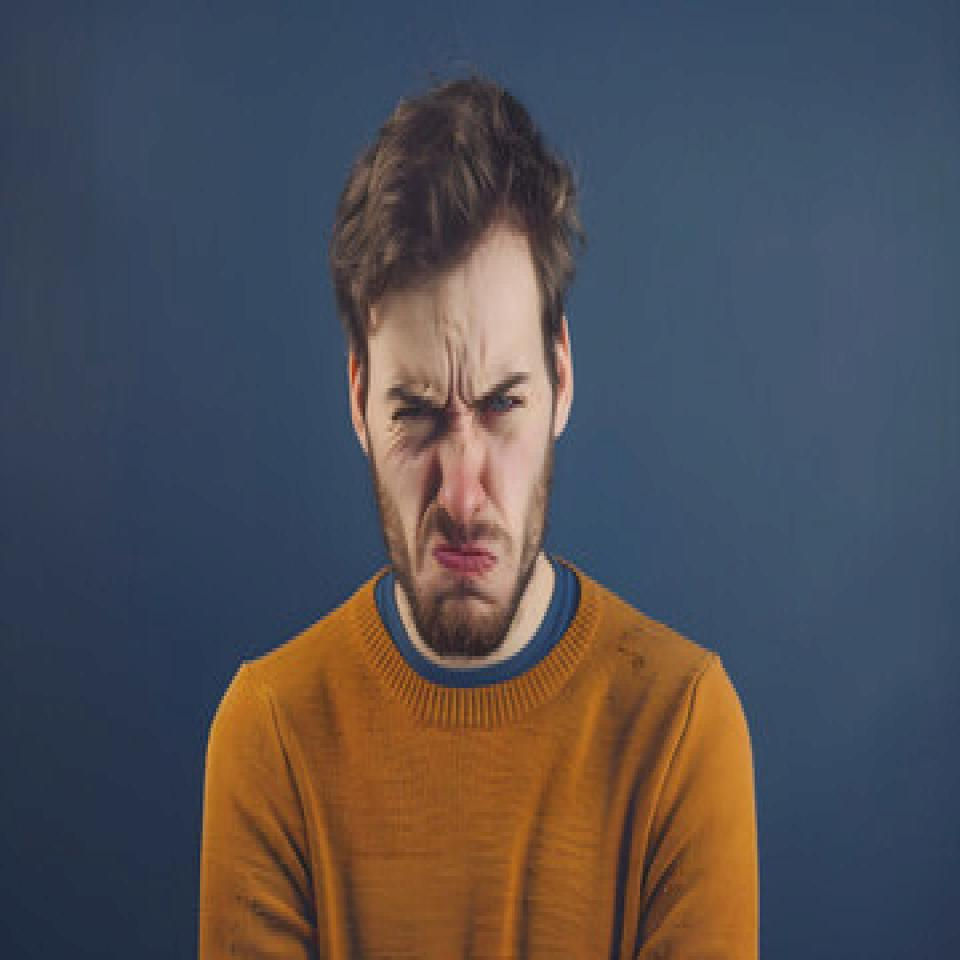Anger: (362, 235, 556, 652)
